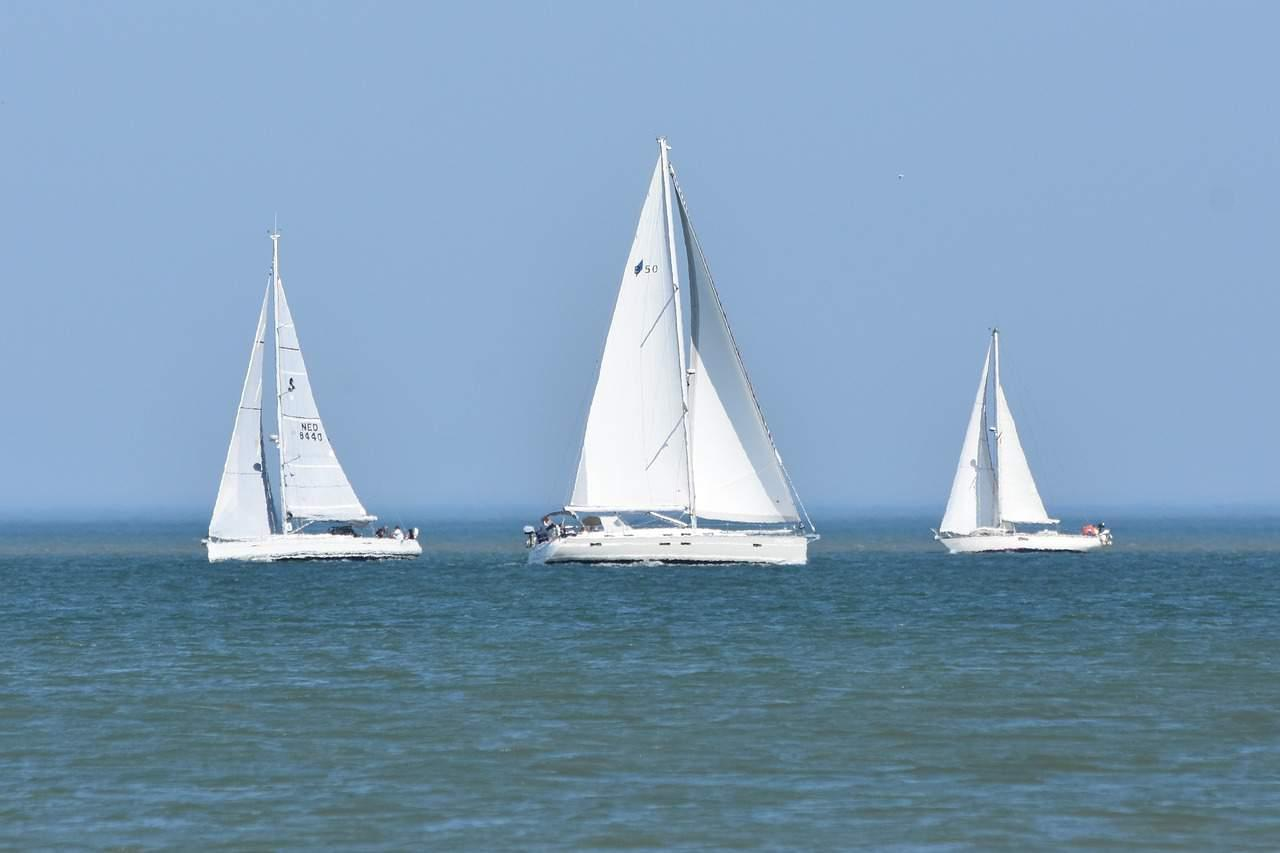Ship: (522, 141, 816, 571), (201, 215, 423, 565), (933, 330, 1109, 558)
